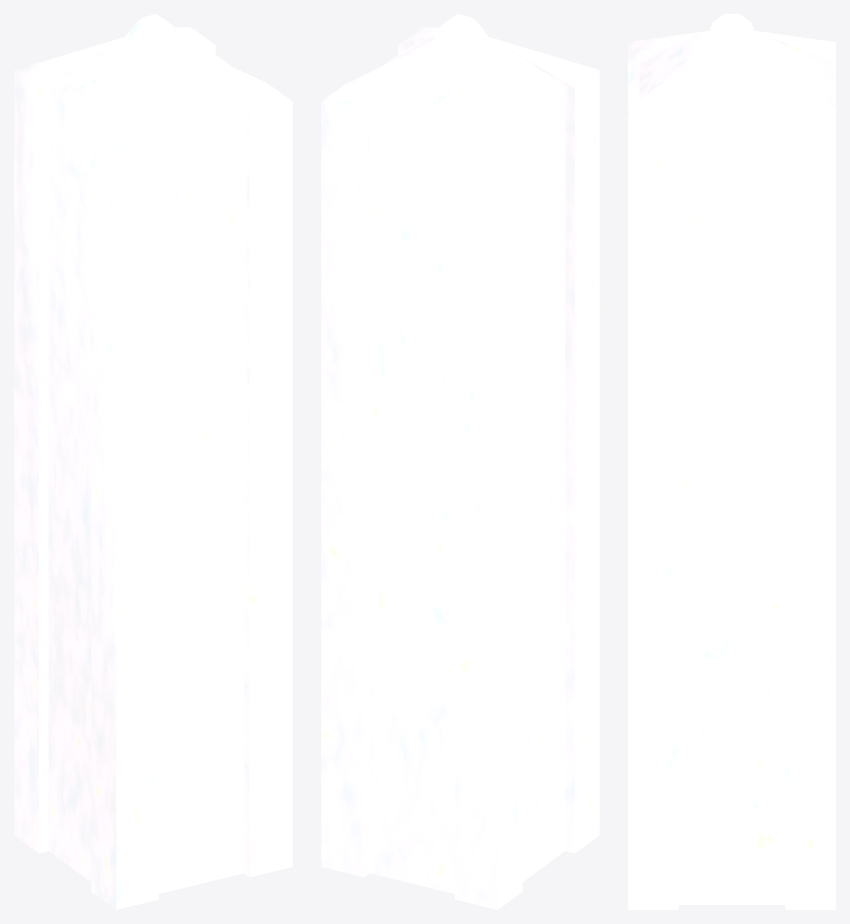
File: CA_006_iron_pillar_var2.glb
3 renders of one model, left to right at view 1: azimuth 30°, elevation 25°; view 2: azimuth 150°, elevation 25°; view 3: azimuth 270°, elevation 25°, orthographic.
Visible parts, largest first — view 1: pillar; view 2: pillar; view 3: pillar.
Boxes of the visible parts, x1,y1,x2,y2 form: pillar: [14, 14, 292, 909]; pillar: [321, 14, 599, 909]; pillar: [628, 14, 835, 909].
Bounding box in the file's own units: 0.75 × 3.39 × 0.75.
Materials: 1 (1 with a texture image).
